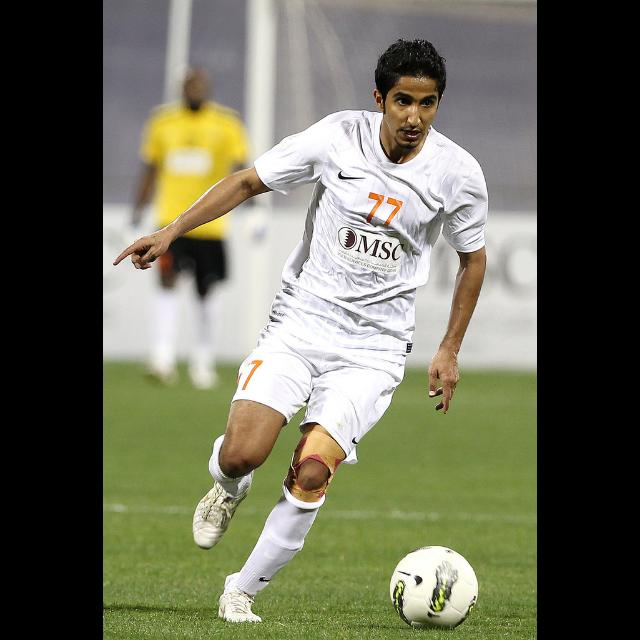Football: (389, 544, 476, 628)
